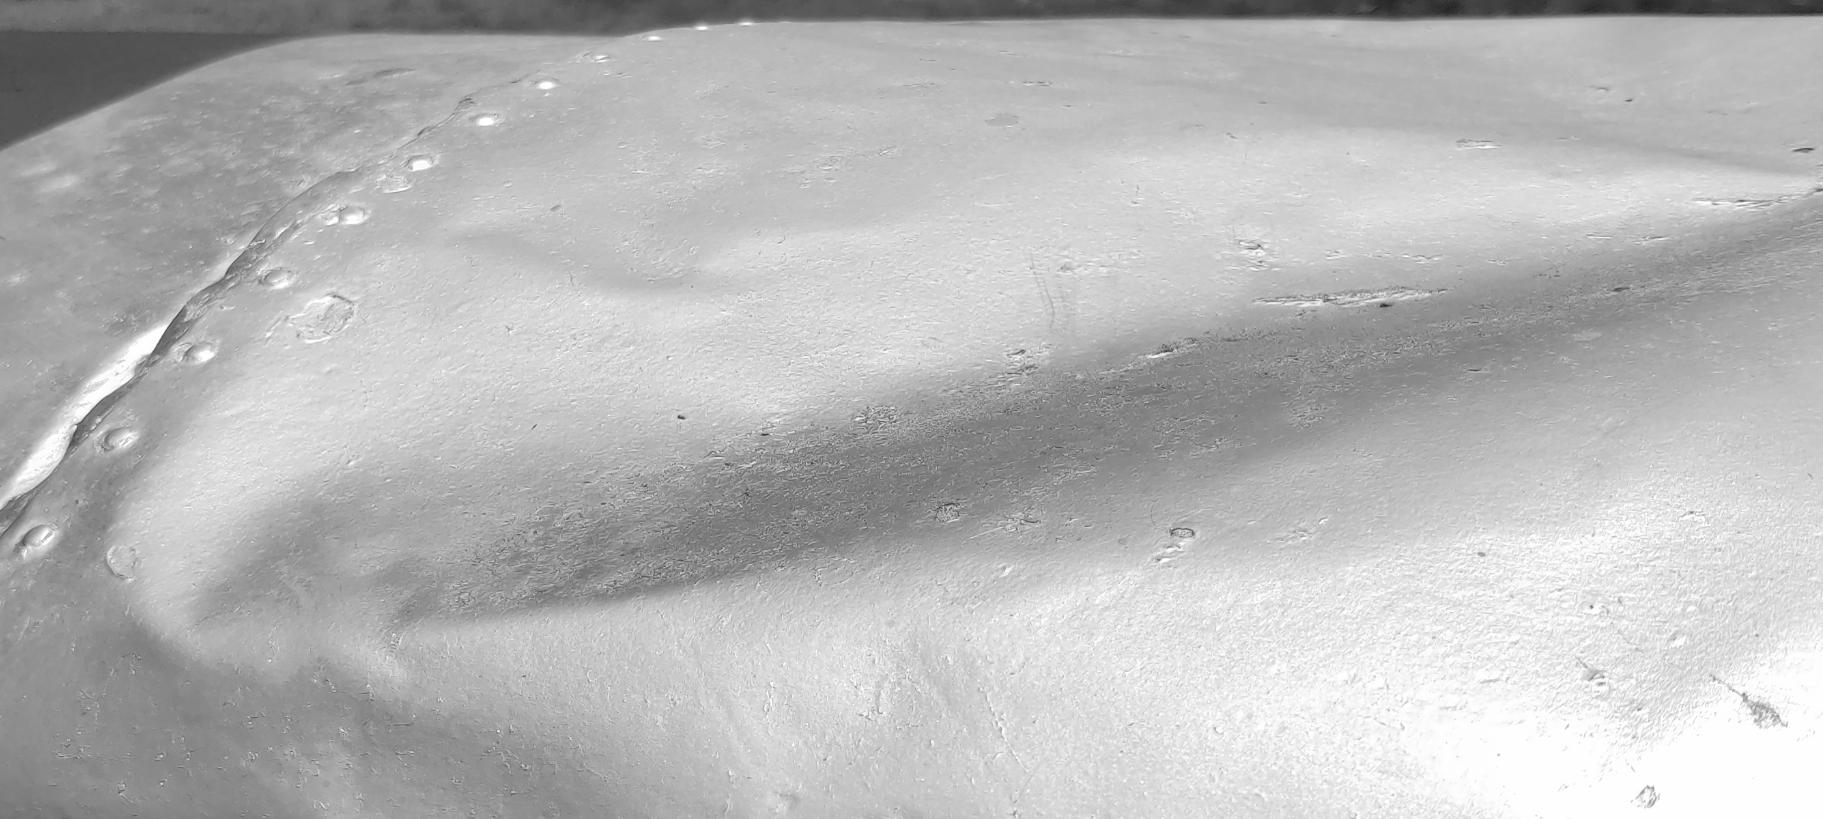dent: (1, 0, 1823, 819)
